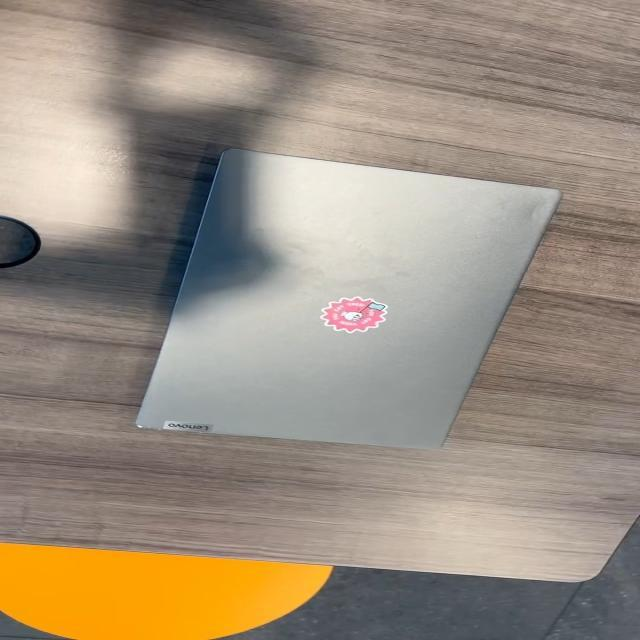laptop: (133, 145, 562, 450)
